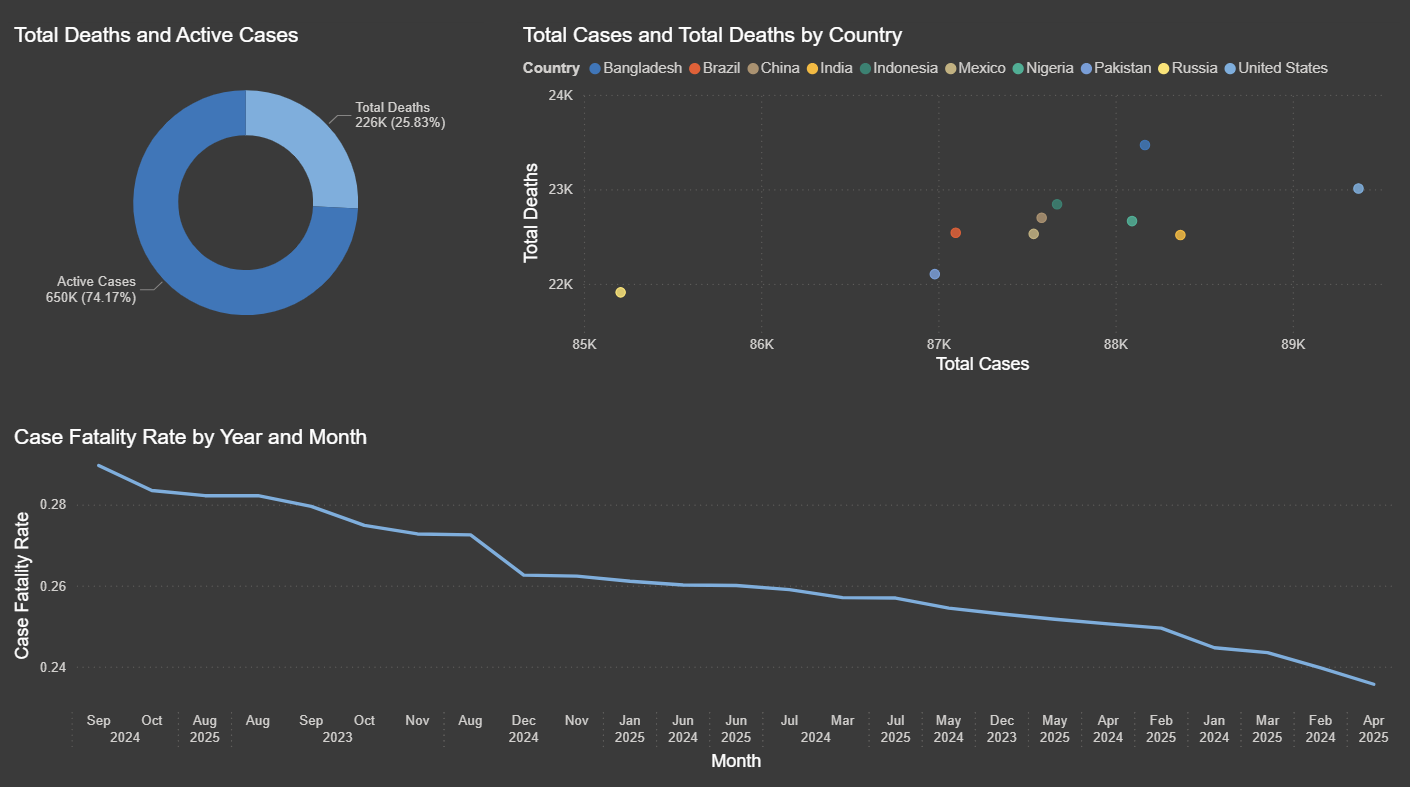

Layout of this report page (visuals, bound fields, positions):
{"tool":"powerbi","page":{"name":"Page 4","canvas":[1280,720],"ordinal":3},"visuals":[{"type":"donutChart","title":"Total Deaths and Active Cases","fields":{"Y":["zoonotic_disease_data_20250823_150248.Total Deaths","zoonotic_disease_data_20250823_150248.Total Recovered","zoonotic_disease_data_20250823_150248.Active Cases"]},"box":[15.7,25.7,422.9,300],"z":0},{"type":"lineChart","fields":{"Y":["zoonotic_disease_data_20250823_150248.Case Fatality Rate"],"Category":["zoonotic_disease_data_20250823_150248.Year","zoonotic_disease_data_20250823_150248.Month"]},"box":[15.7,384.3,1240,312.9],"z":1000},{"type":"scatterChart","fields":{"Series":["zoonotic_disease_data_20250823_150248.Country"],"Y":["zoonotic_disease_data_20250823_150248.Total Deaths"],"X":["zoonotic_disease_data_20250823_150248.Total Cases"]},"box":[468.6,25.7,785.7,317.1],"z":2000}]}

Visuals, with their boxes in screenshot pixels (x1, y1, x2, y2), scaled from the page's 1280x720 canvas onto the 1410x787 screenshot:
"Total Deaths and Active Cases" donutChart: left=17, top=28, right=483, bottom=356
lineChart - zoonotic_disease_data_20250823_150248.Case Fatality Rate x zoonotic_disease_data_20250823_150248.Year: left=17, top=420, right=1383, bottom=762
scatterChart - zoonotic_disease_data_20250823_150248.Country x zoonotic_disease_data_20250823_150248.Total Deaths: left=516, top=28, right=1382, bottom=375
